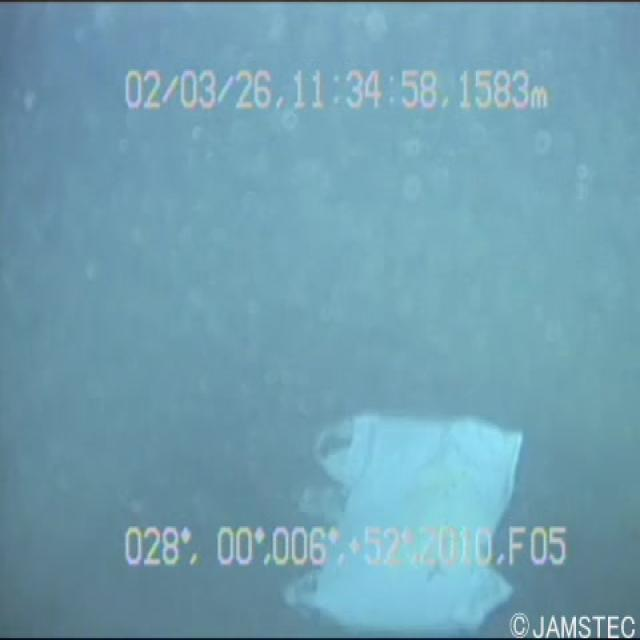plastic: (282, 345, 514, 638)
